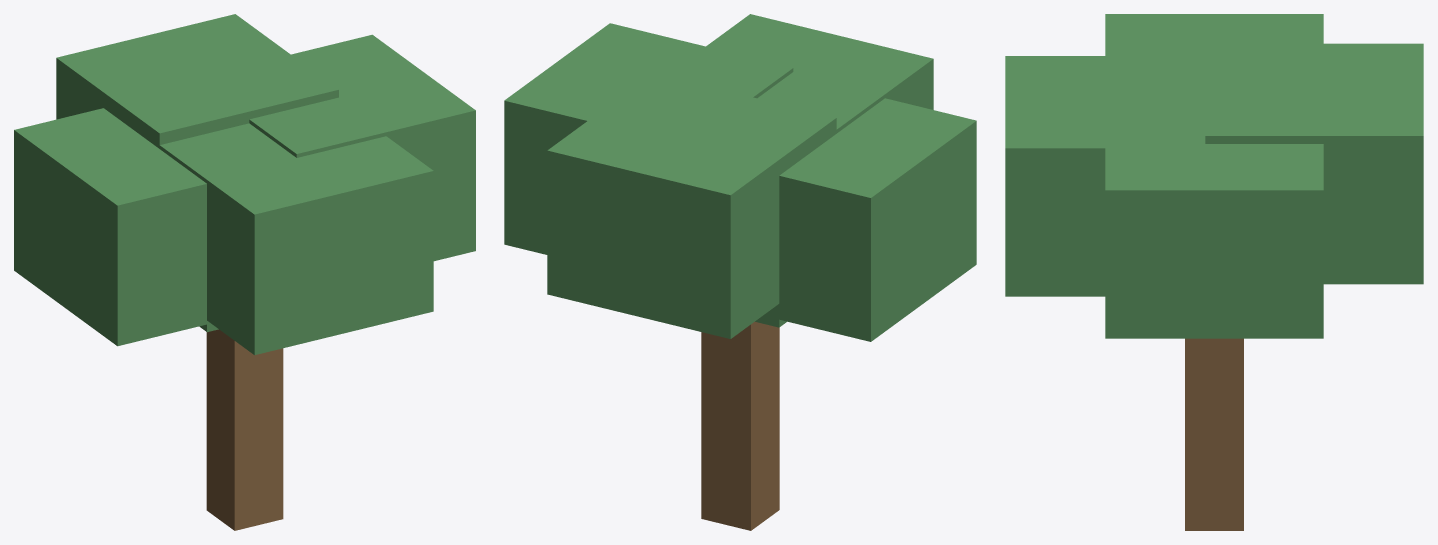
File: bh_cr_shade_tree_01_lod0.glb
3 renders of one model, left to right at view 1: azimuth 30°, elevation 25°; view 2: azimuth 150°, elevation 25°; view 3: azimuth 270°, elevation 25°, orthographic. The views are drawn at different scales.
Parts seen in each view (by area): view 1: bh_cr_shade_tree_01_canopy_4, bh_cr_shade_tree_01_canopy_2, bh_cr_shade_tree_01_canopy_3, bh_cr_shade_tree_01_canopy_1, bh_cr_shade_tree_01_trunk; view 2: bh_cr_shade_tree_01_canopy_3, bh_cr_shade_tree_01_canopy_2, bh_cr_shade_tree_01_canopy_1, bh_cr_shade_tree_01_trunk, bh_cr_shade_tree_01_canopy_4; view 3: bh_cr_shade_tree_01_canopy_1, bh_cr_shade_tree_01_canopy_3, bh_cr_shade_tree_01_canopy_4, bh_cr_shade_tree_01_trunk, bh_cr_shade_tree_01_canopy_2.
Boxes of the visible parts, bbox=[...] form: bh_cr_shade_tree_01_canopy_4: bbox=[151, 123, 433, 355]; bh_cr_shade_tree_01_canopy_2: bbox=[14, 108, 209, 346]; bh_cr_shade_tree_01_canopy_3: bbox=[56, 14, 338, 144]; bh_cr_shade_tree_01_canopy_1: bbox=[249, 34, 475, 261]; bh_cr_shade_tree_01_trunk: bbox=[206, 329, 283, 530]; bh_cr_shade_tree_01_canopy_3: bbox=[547, 73, 836, 338]; bh_cr_shade_tree_01_canopy_2: bbox=[764, 98, 976, 341]; bh_cr_shade_tree_01_canopy_1: bbox=[504, 23, 793, 254]; bh_cr_shade_tree_01_trunk: bbox=[701, 321, 779, 530]; bh_cr_shade_tree_01_canopy_4: bbox=[706, 14, 933, 139]; bh_cr_shade_tree_01_canopy_1: bbox=[1105, 98, 1323, 338]; bh_cr_shade_tree_01_canopy_3: bbox=[1205, 43, 1423, 284]; bh_cr_shade_tree_01_canopy_4: bbox=[1005, 56, 1205, 296]; bh_cr_shade_tree_01_trunk: bbox=[1185, 338, 1243, 530]; bh_cr_shade_tree_01_canopy_2: bbox=[1105, 14, 1323, 55].
Bounding box in the file's own units: 4.8 × 5.2 × 4.6.
